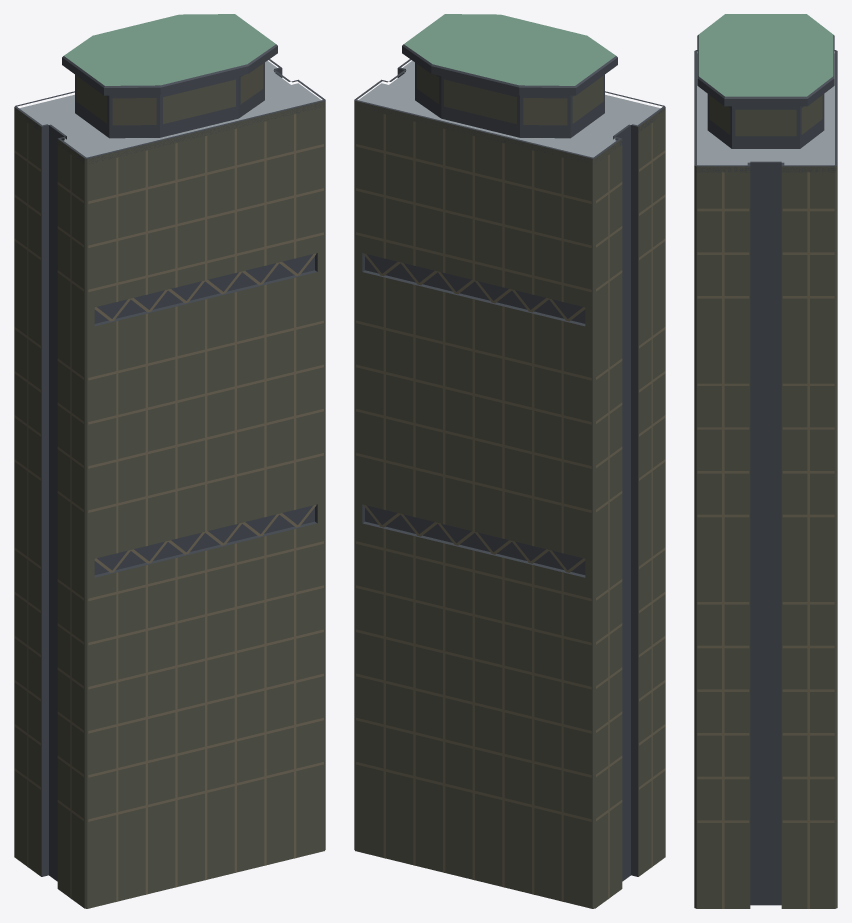
Rendered from mexico-city-torre-pemex.glb.
3 renders of one model, left to right at view 1: azimuth 30°, elevation 25°; view 2: azimuth 150°, elevation 25°; view 3: azimuth 270°, elevation 25°, orthographic.
Visible parts, largest first — view 1: Torre Ejecutiva Pemex; view 2: Torre Ejecutiva Pemex; view 3: Torre Ejecutiva Pemex.
Boxes of the visible parts, x1,y1,x2,y2 form: Torre Ejecutiva Pemex: (14,14,325,908); Torre Ejecutiva Pemex: (354,14,665,908); Torre Ejecutiva Pemex: (694,14,837,908).
Bounding box in the file's own units: 66.3 × 211 × 34.5.
